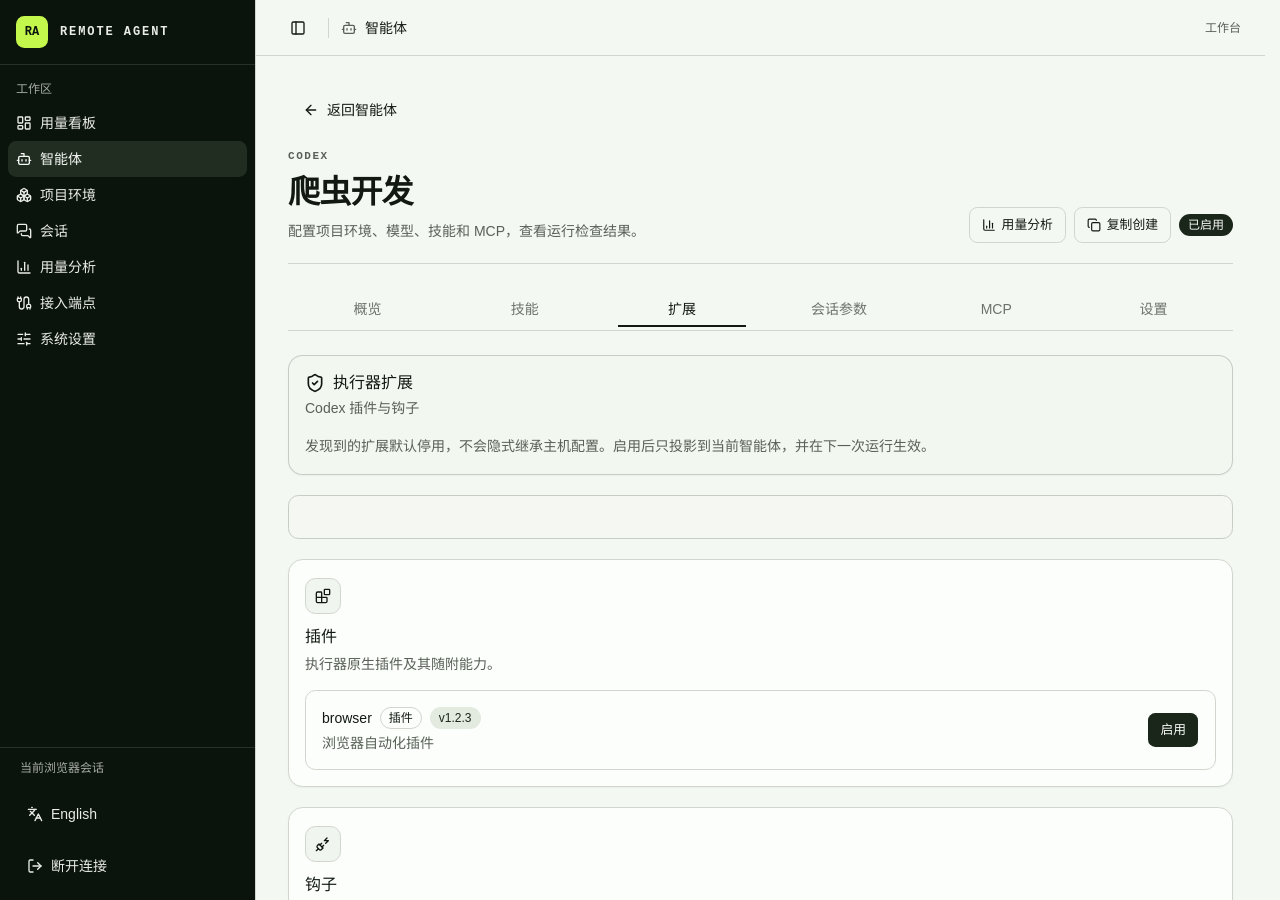
Test: 按 Provider 展示插件和 Hook，并允许 Agent 显式启用
The width and height of the screenshot is (1280, 900).
Expected: the heading "执行器扩展" is shown, top-left (333, 372), bottom-right (413, 394)
Expected: the text "Codex 插件与钩子" is shown, top-left (305, 400), bottom-right (419, 416)
Step 1. Click the button with aria-label "启用 browser" → (1173, 730), box top-left (1147, 712), bottom-right (1199, 748)
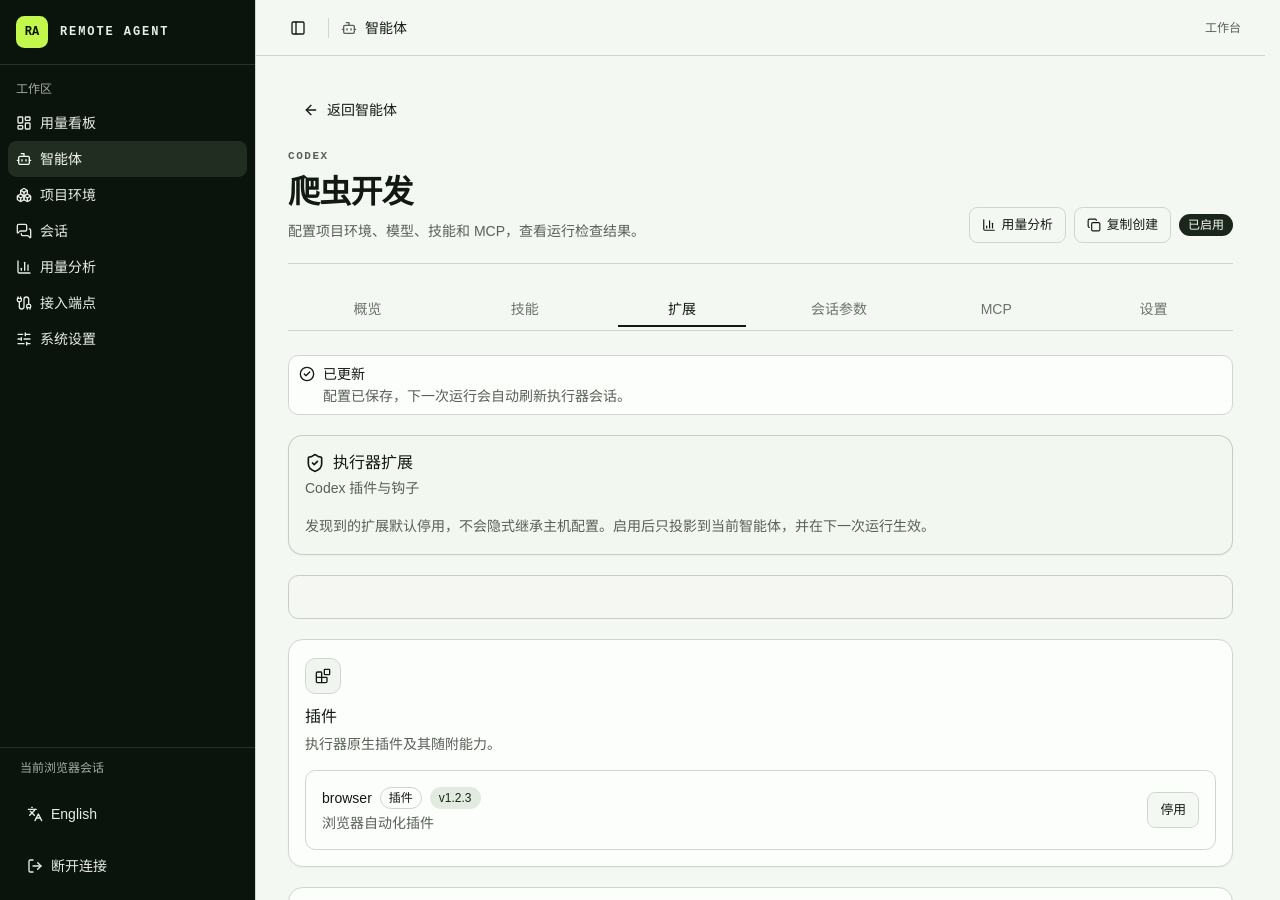
Now the button with aria-label "停用 browser" is shown, box top-left (1147, 792), bottom-right (1199, 828)
